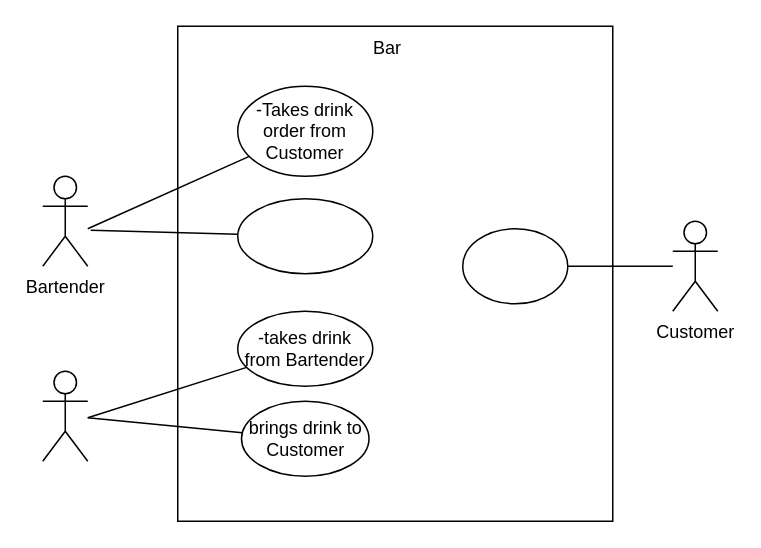
This 761x548 diagram has some shape labels left out. Here are the shapes that lost their labels. From the top down, the centre of each, then its label:
At (304,235): "Drinks are made".
At (514,265): "Orders drink".
At (64,415): "Server".
